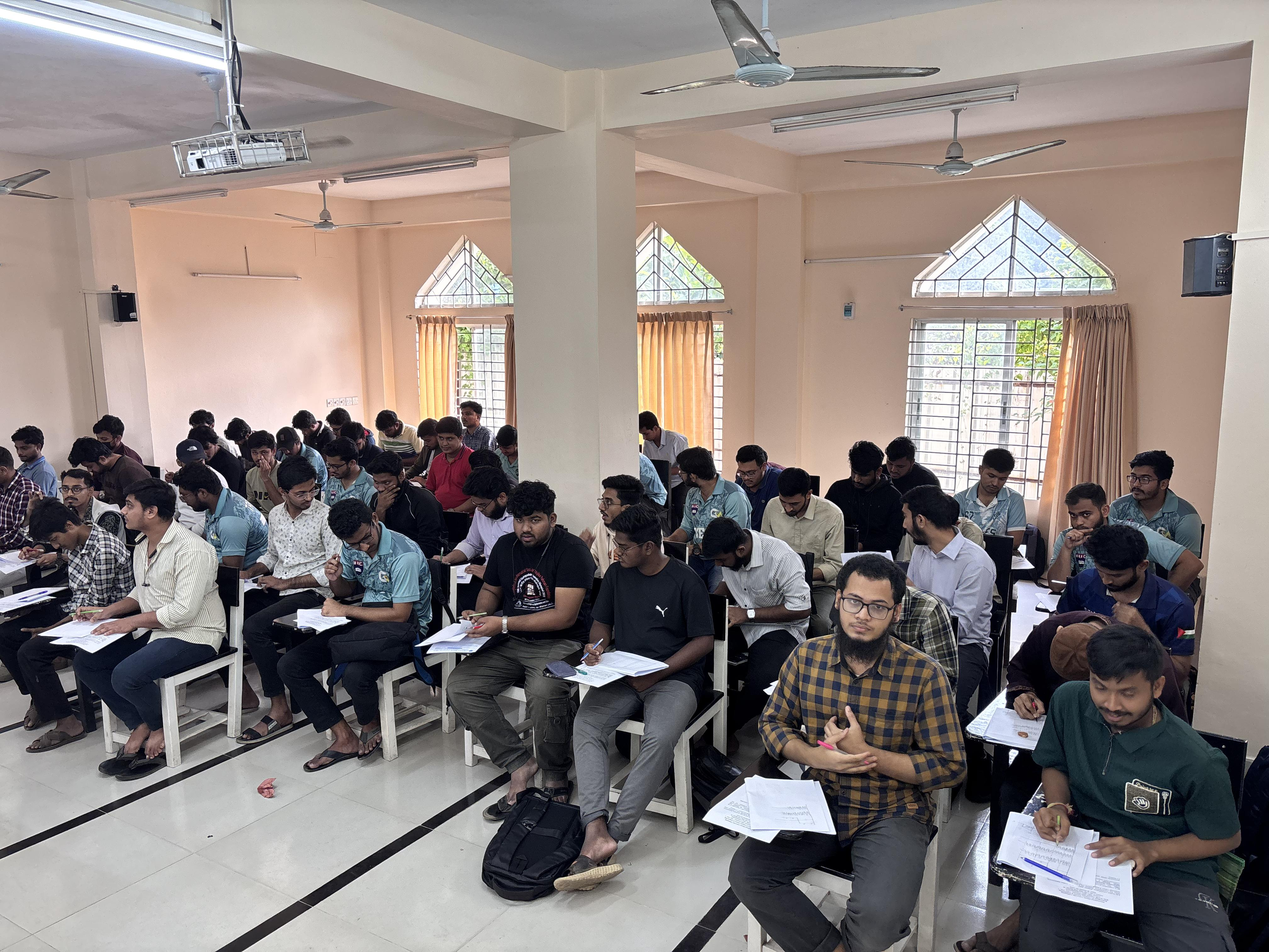copying: (572, 518, 708, 770), (299, 519, 429, 696), (251, 476, 328, 608)
no_cheating: (1012, 649, 1228, 952), (768, 580, 948, 920), (449, 501, 587, 736), (90, 496, 216, 742), (18, 504, 119, 689), (982, 608, 1108, 748), (697, 526, 821, 645), (765, 471, 856, 588), (1069, 542, 1189, 615), (432, 486, 530, 571), (962, 454, 1046, 550), (174, 468, 261, 560), (831, 441, 905, 549), (425, 411, 481, 511), (1124, 454, 1207, 515), (66, 441, 143, 495), (880, 433, 935, 494), (42, 462, 109, 508), (730, 439, 788, 490), (231, 437, 285, 491), (641, 402, 680, 471), (373, 406, 415, 459), (313, 437, 359, 485), (494, 417, 526, 475), (458, 398, 497, 436), (269, 425, 307, 459), (285, 405, 320, 437), (101, 417, 132, 450), (189, 425, 220, 458), (223, 418, 257, 446)
side_talking: (885, 484, 987, 631), (653, 445, 739, 531)
suspicious_moving: (1046, 482, 1128, 564), (585, 473, 657, 538), (367, 465, 431, 535), (12, 422, 65, 475)
